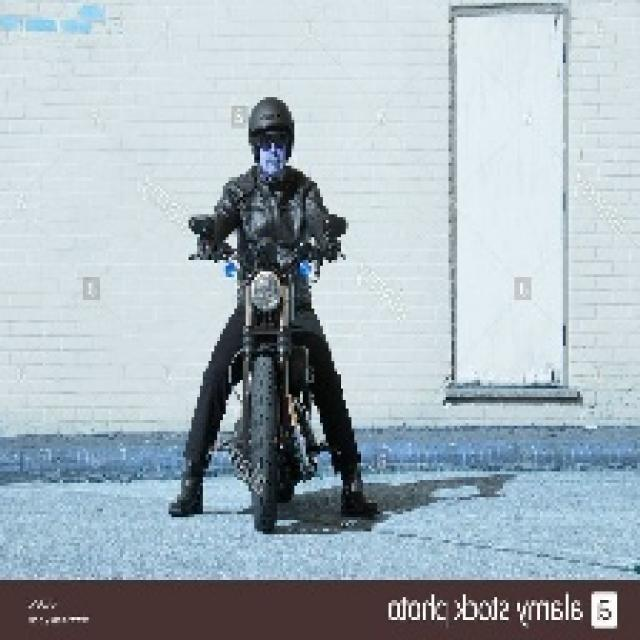Motorcycle: (186, 218, 331, 538)
